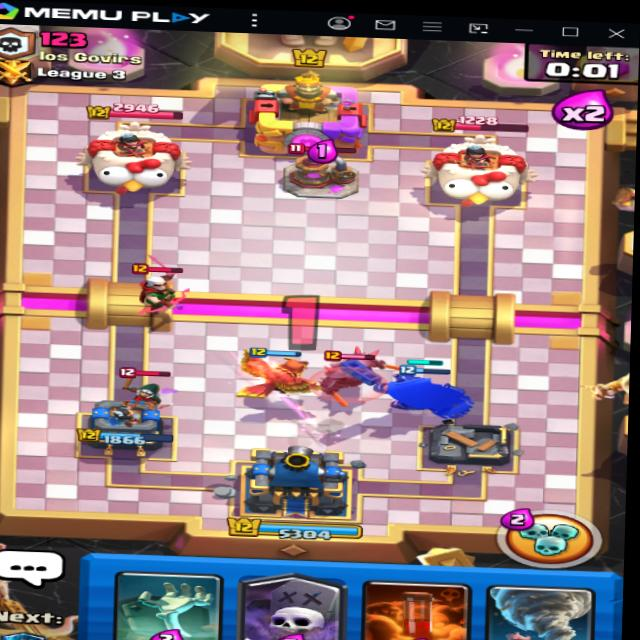bandit: (115, 368, 185, 418)
elixir-collector: (271, 134, 375, 206)
magic-archer: (124, 256, 203, 319)
pekka: (312, 340, 386, 406)
